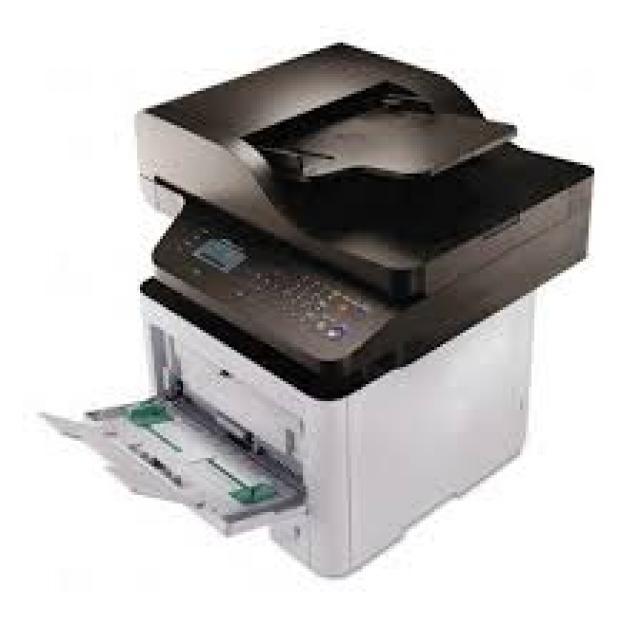printer: (36, 41, 597, 581)
